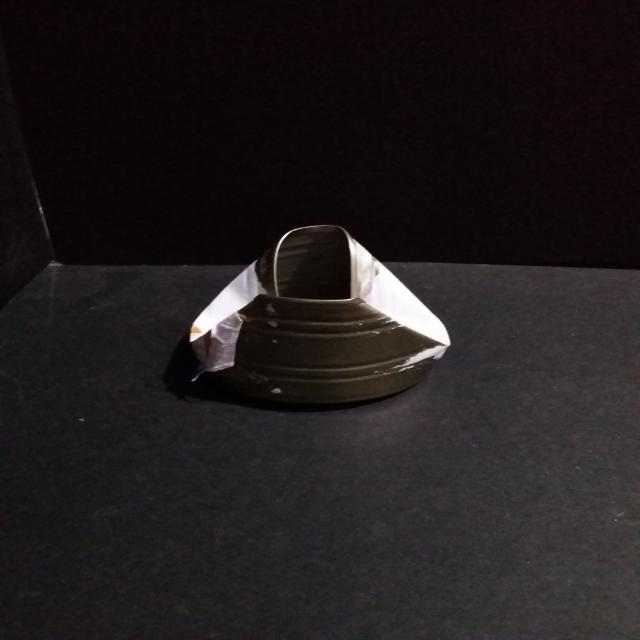metal-can: (186, 220, 452, 405)
